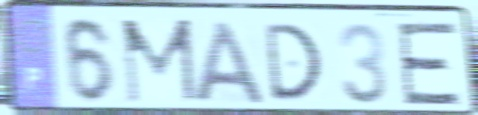3: (337, 20, 388, 106)
6: (63, 15, 118, 106)
A: (191, 18, 269, 106)
D: (261, 21, 325, 104)
E: (394, 20, 464, 107)
M: (118, 16, 200, 107)
